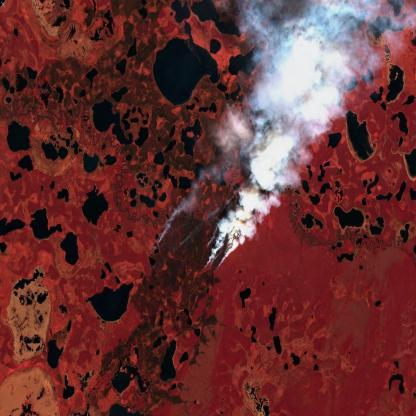fire: (144, 190, 244, 299), (154, 376, 169, 396)
